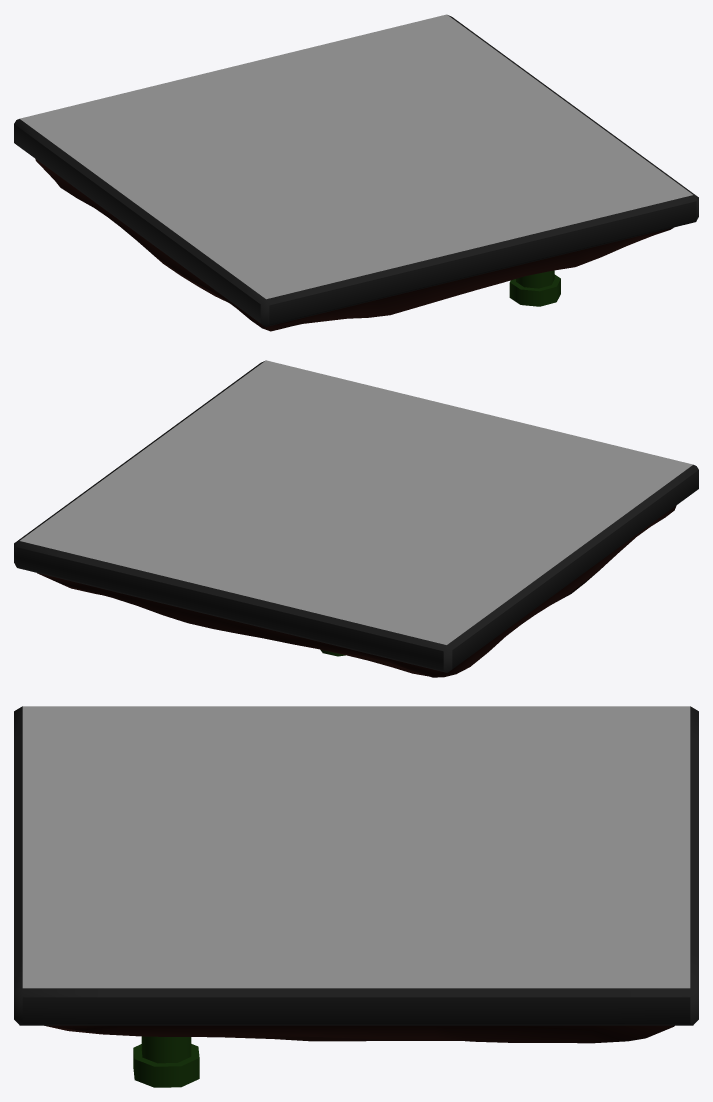
File: MET_PlatformeTuyau_Moyen_Pierre_01_LOD0.fbx
3 renders of one model, top to bottom at view 1: azimuth 30°, elevation 25°; view 2: azimuth 150°, elevation 25°; view 3: azimuth 270°, elevation 25°, orthographic. The views are drawn at different scales.
Parts seen in each view (by area): view 1: MET_PlatformeTuyau_Moyen_Pierre_01_LOD0; view 2: MET_PlatformeTuyau_Moyen_Pierre_01_LOD0; view 3: MET_PlatformeTuyau_Moyen_Pierre_01_LOD0.
Part boxes in pixels (bbox=[...]): MET_PlatformeTuyau_Moyen_Pierre_01_LOD0: bbox=[14, 14, 698, 331]; MET_PlatformeTuyau_Moyen_Pierre_01_LOD0: bbox=[14, 360, 698, 677]; MET_PlatformeTuyau_Moyen_Pierre_01_LOD0: bbox=[14, 706, 698, 1087].
Size of the model in its own units: 600 by 149 by 600.
